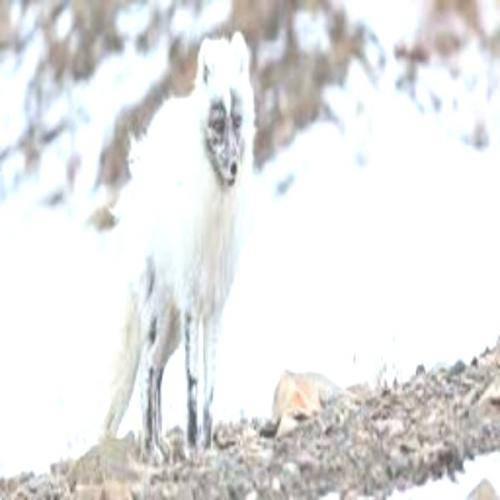arctic_fox-endangered: (103, 33, 259, 456)
